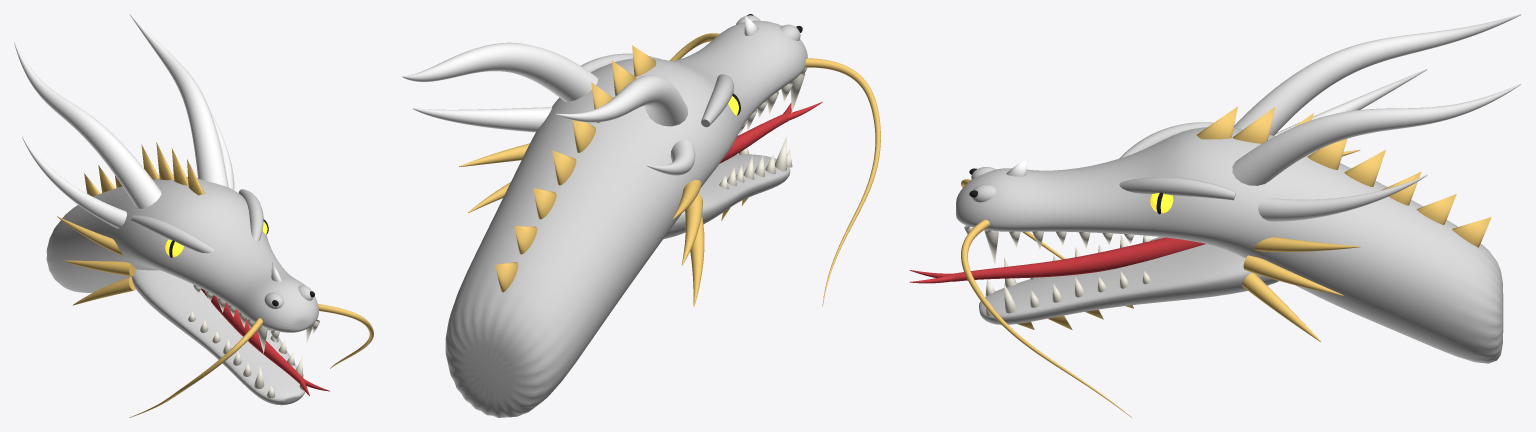
The model's file is naga_head.glb.
The picture shows the model from 3 angles, left to right: view 1: azimuth 30°, elevation 25°; view 2: azimuth 150°, elevation 25°; view 3: azimuth 270°, elevation 25°; orthographic projection. The views are drawn at different scales.
Visible parts, largest first — view 1: Kepala, Rahang_Bawah, Tanduk_Utama_R, Tanduk_Utama_L, Tanduk_Samping_R, Lidah, Alis_R, Sungut_R, Duri_Pipi_1_R, Alis_L, Duri_Pipi_2_R, Sungut_L (+2 smaller); view 2: Kepala, Tanduk_Utama_L, Tanduk_Utama_R, Rahang_Bawah, Tanduk_Samping_L, Sungut_R, Lidah, Alis_R, Tanduk_Samping_R, Duri_Pipi_1_R, Duri_Pipi_2_R, Duri_Pipi_0_L (+9 smaller); view 3: Kepala, Rahang_Bawah, Tanduk_Utama_L, Tanduk_Utama_R, Lidah, Tanduk_Samping_L, Alis_L, Sungut_L, Duri_Pipi_1_L, Duri_Pipi_2_L, Duri_Pipi_0_L, Tanduk_Samping_R (+7 smaller).
Part boxes in pixels (box(x1,y1,x2,y2)): Kepala: box(46, 177, 318, 332); Rahang_Bawah: box(129, 269, 304, 405); Tanduk_Utama_R: box(14, 42, 161, 208); Tanduk_Utama_L: box(129, 14, 228, 187); Tanduk_Samping_R: box(22, 136, 126, 228); Lidah: box(201, 288, 329, 395); Alis_R: box(131, 215, 214, 253); Sungut_R: box(129, 318, 262, 417); Duri_Pipi_1_R: box(64, 260, 135, 276); Alis_L: box(238, 189, 263, 241); Duri_Pipi_2_R: box(73, 276, 135, 305); Sungut_L: box(318, 304, 373, 368); Kepala: box(445, 20, 807, 417); Tanduk_Utama_L: box(402, 42, 598, 101); Tanduk_Utama_R: box(555, 75, 687, 126); Rahang_Bawah: box(663, 154, 790, 239); Tanduk_Samping_L: box(412, 107, 551, 132); Sungut_R: box(805, 58, 880, 306); Lidah: box(720, 101, 822, 163); Alis_R: box(701, 74, 733, 127); Tanduk_Samping_R: box(646, 140, 695, 175); Duri_Pipi_1_R: box(681, 194, 702, 265); Duri_Pipi_2_R: box(685, 216, 704, 306); Duri_Pipi_0_L: box(459, 143, 529, 166); Kepala: box(956, 127, 1503, 363); Rahang_Bawah: box(979, 237, 1278, 324); Tanduk_Utama_L: box(1232, 83, 1521, 185); Tanduk_Utama_R: box(1234, 14, 1521, 135); Lidah: box(909, 237, 1205, 283); Tanduk_Samping_L: box(1258, 175, 1427, 221); Alis_L: box(1119, 177, 1235, 200); Sungut_L: box(961, 219, 1131, 417); Duri_Pipi_1_L: box(1243, 255, 1343, 295); Duri_Pipi_2_L: box(1242, 273, 1321, 341); Duri_Pipi_0_L: box(1253, 237, 1360, 251); Tanduk_Samping_R: box(1274, 69, 1427, 135).
Bounding box in the file's own units: 3.21 × 3.82 × 6.84.
